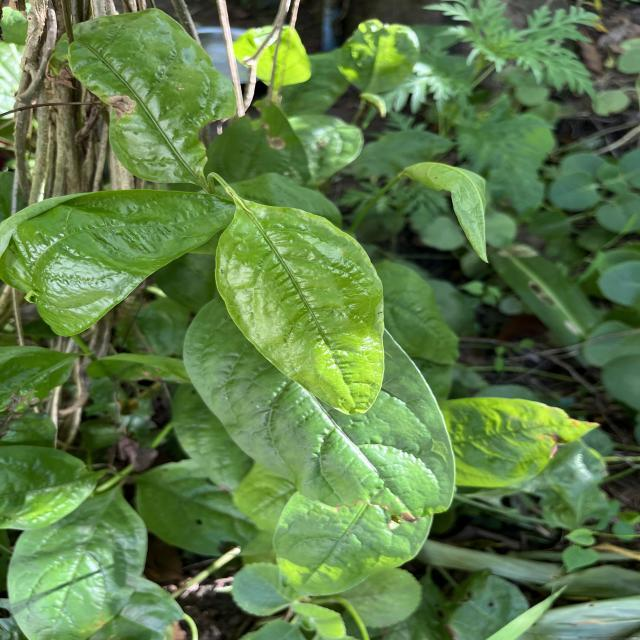Plumbago indica: (211, 199, 387, 419), (0, 182, 227, 339), (46, 4, 240, 187), (3, 491, 154, 640), (440, 392, 606, 490)
